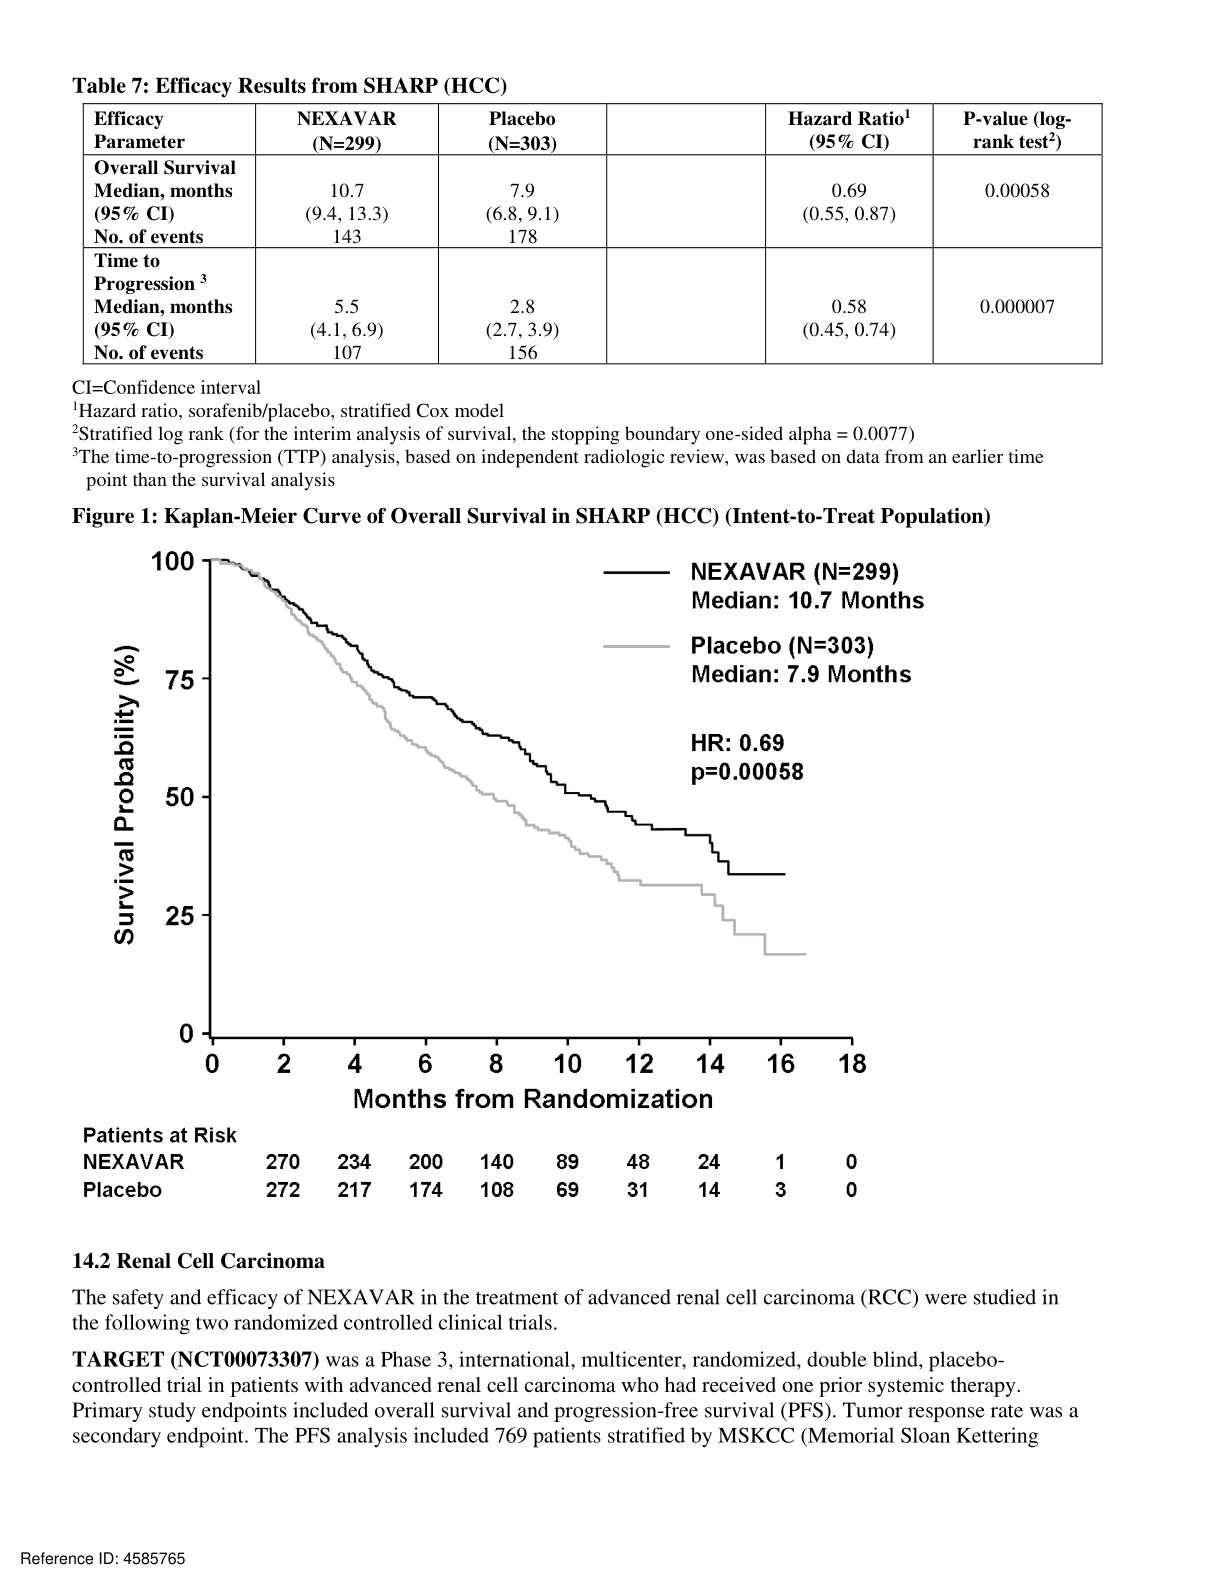full_lined: (82, 102, 1104, 365)
nolines: (78, 1149, 864, 1203)
